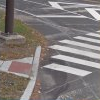crosswalk: (41, 28, 99, 77)
